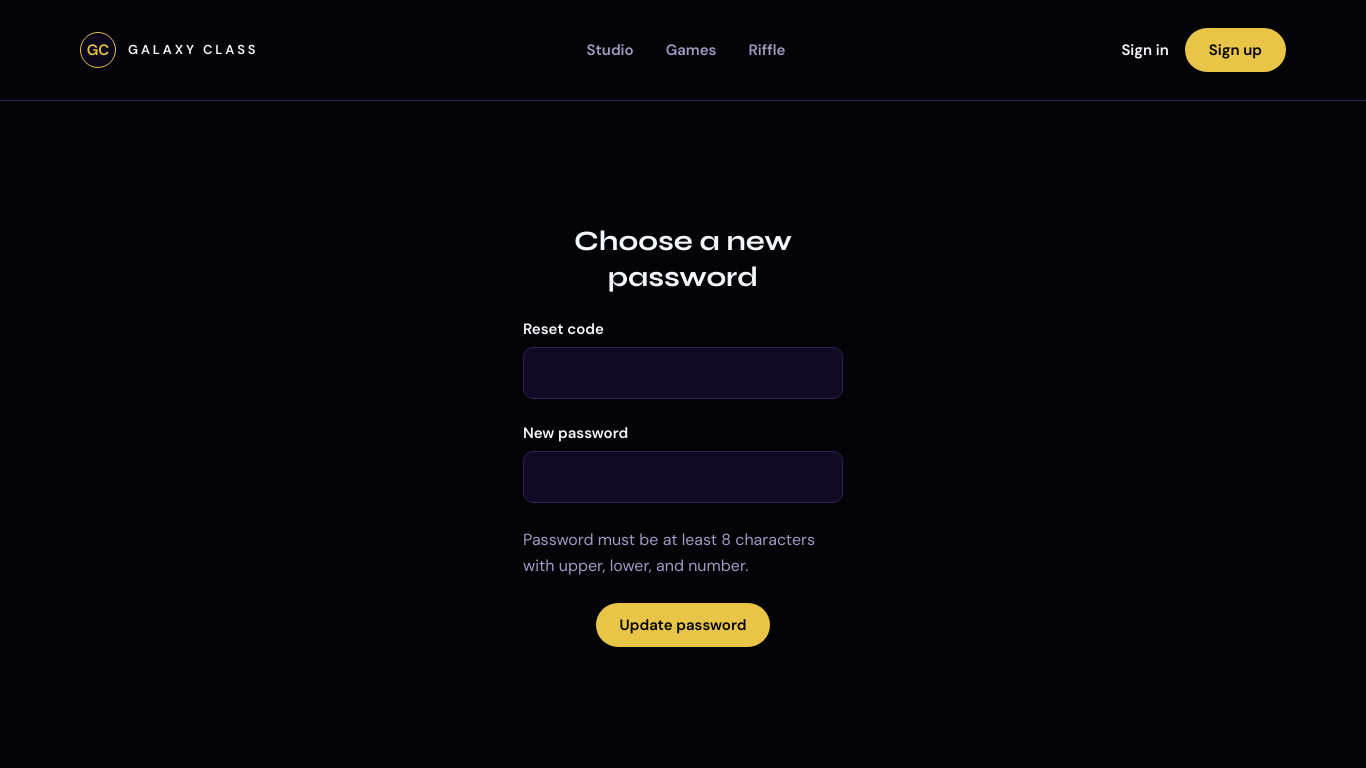
Scenario: forgot and reset password › confirms the reset without putting the password in the URL
Type "654321" into the field labelled "Reset code" at point(683, 372), box top-left (523, 346), bottom-right (843, 398)
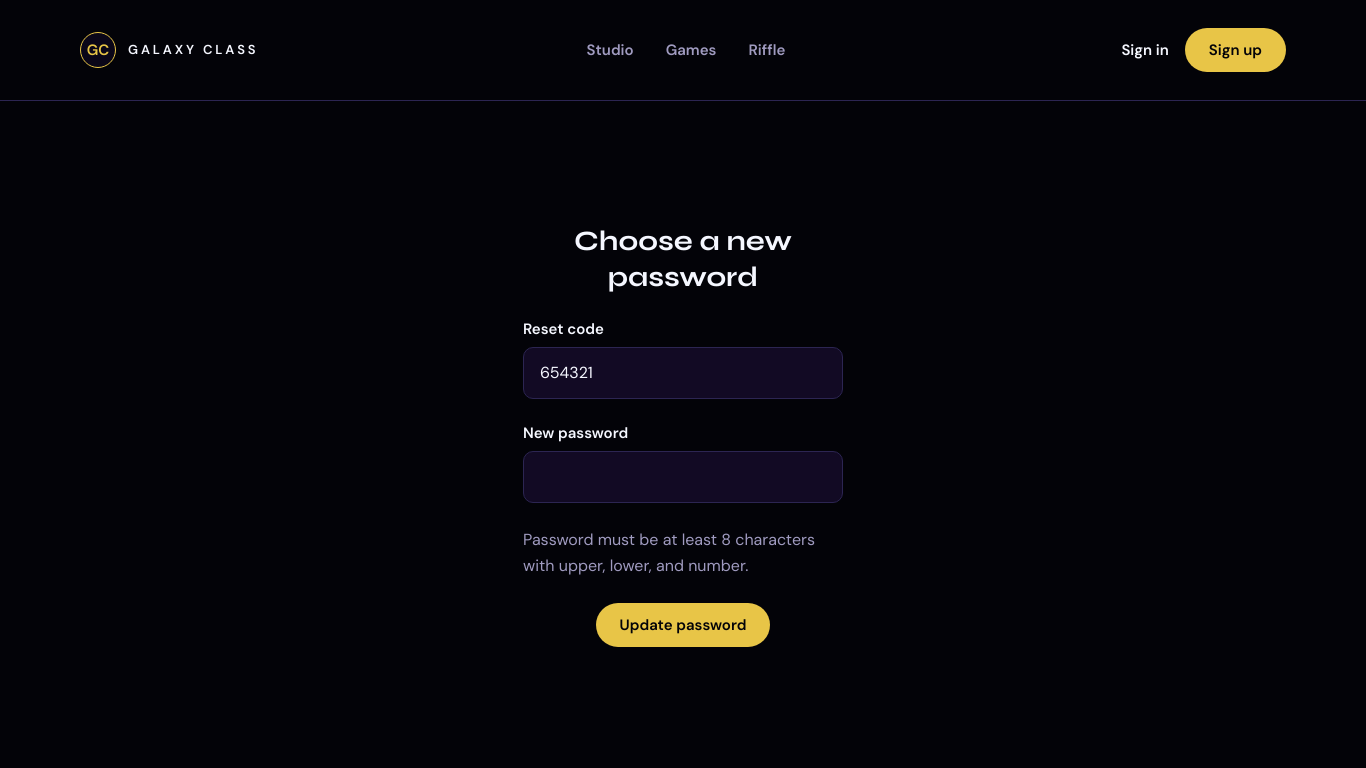
Type "Password1" into the password field labelled "New password" at point(683, 476), box top-left (523, 450), bottom-right (843, 502)
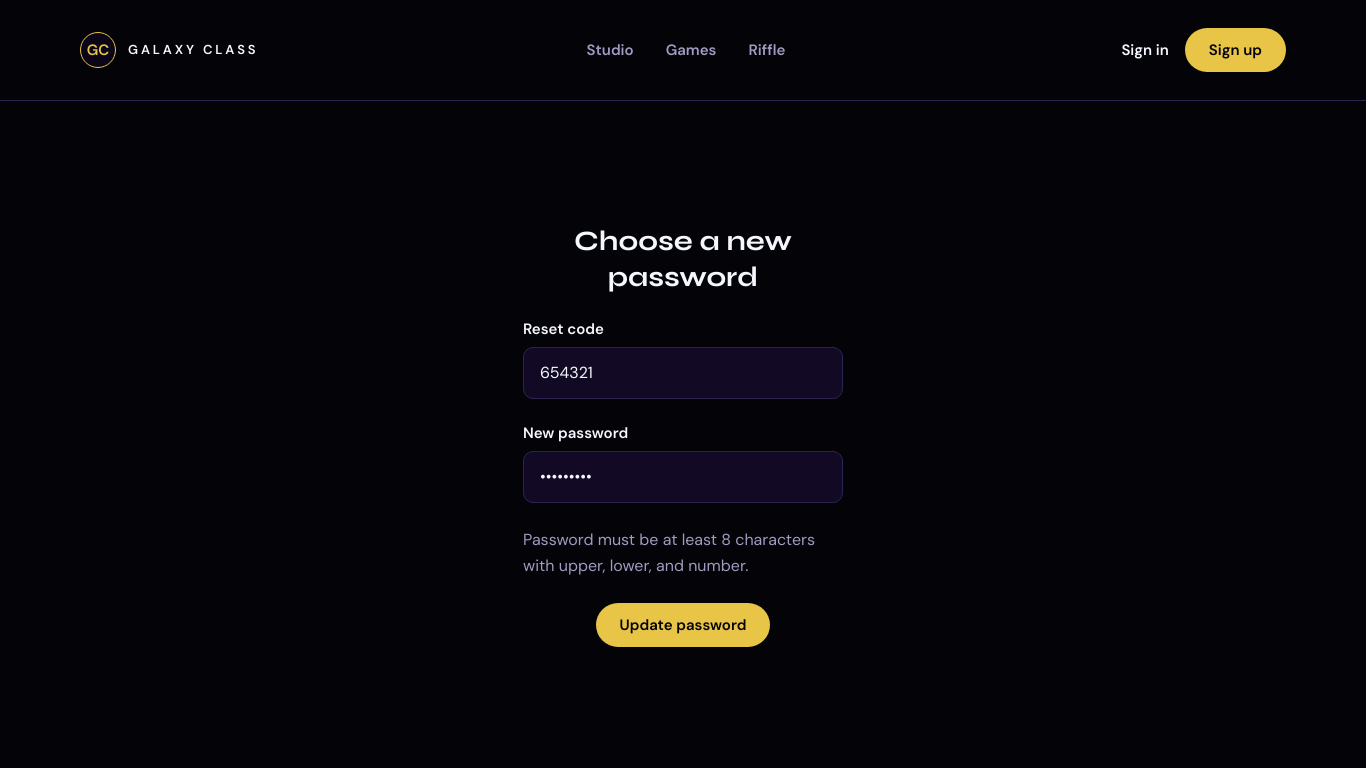
Click the button "Update password" at point(683, 624), box top-left (596, 602), bottom-right (770, 646)
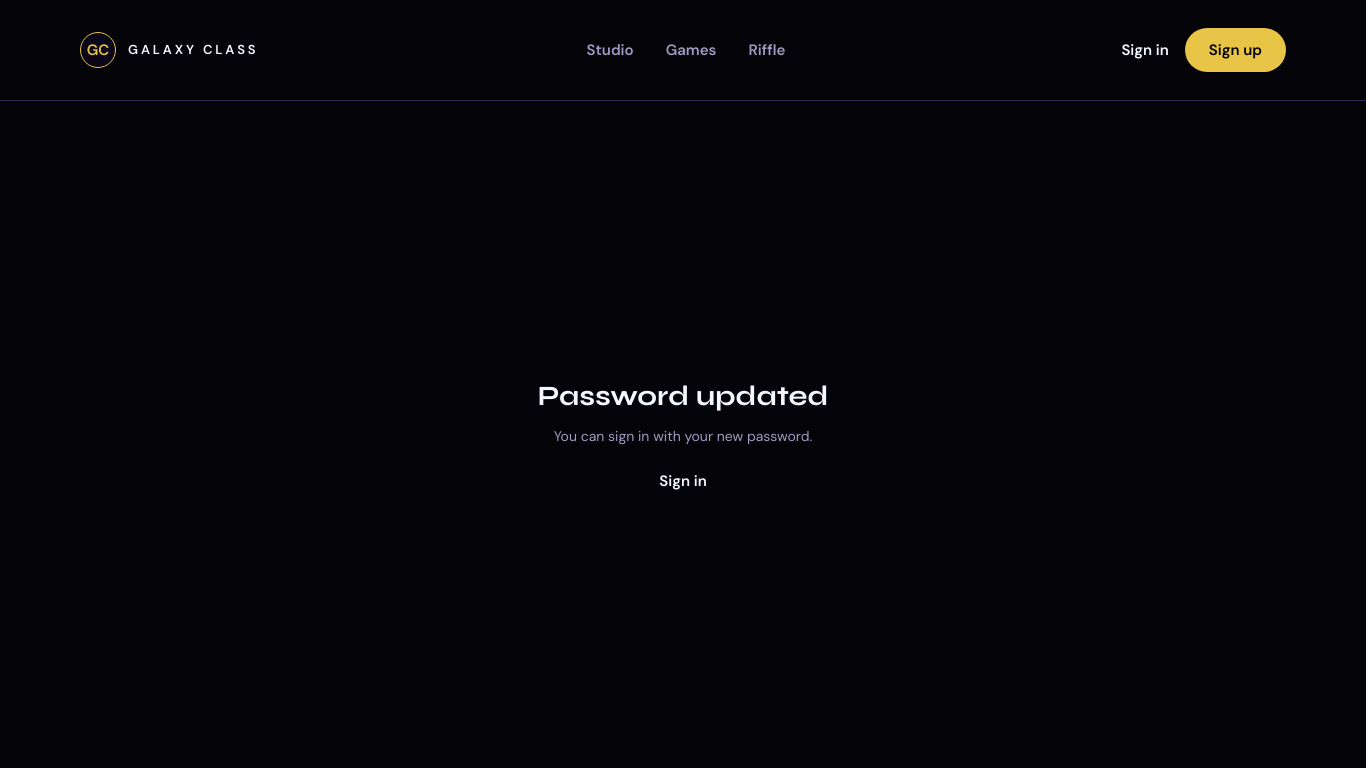
Expected: the heading "Password updated" is shown, top-left (523, 378), bottom-right (843, 414)
Expected: the text "You can sign in with your new password." is shown, top-left (554, 427), bottom-right (812, 445)
